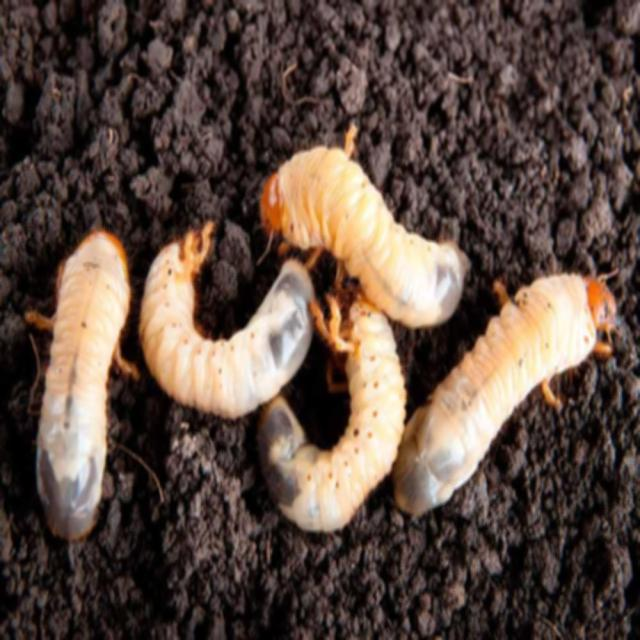grub: (400, 230, 617, 528), (259, 140, 478, 327), (268, 301, 408, 542), (144, 239, 329, 415), (35, 225, 126, 553)
